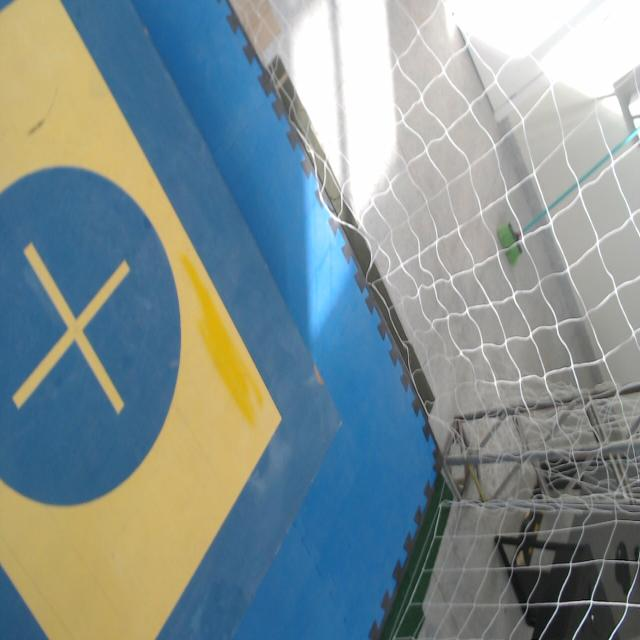base_inicio: (0, 0, 282, 639)
